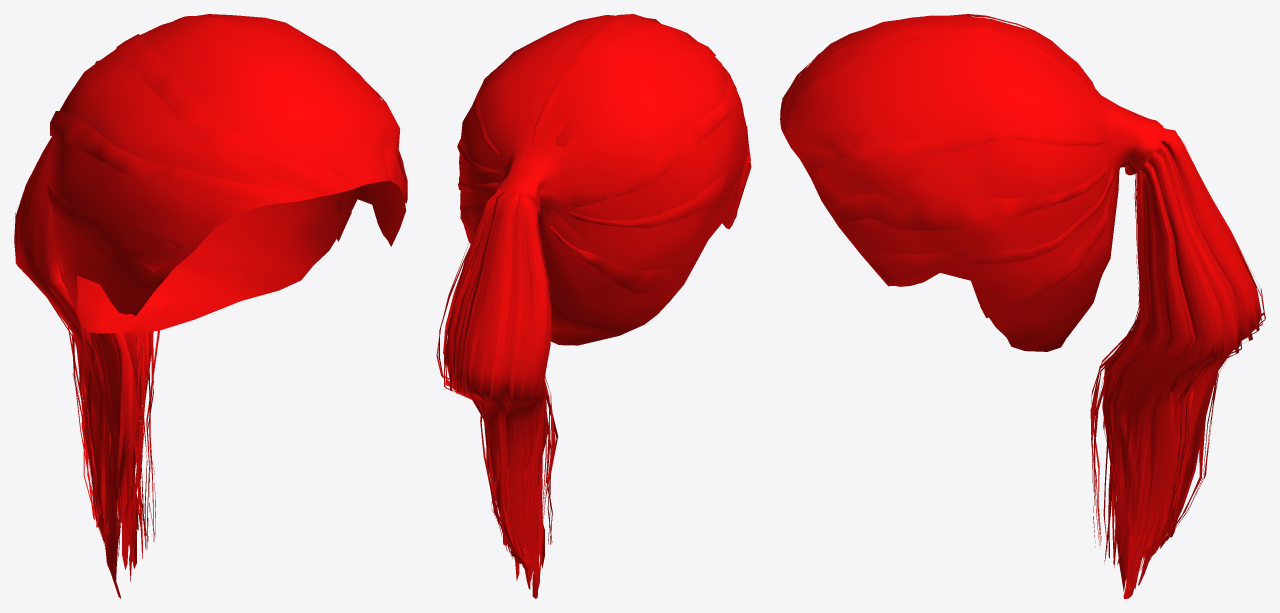
The model's file is ponytail01_F.glb.
3 renders of one model, left to right at view 1: azimuth 30°, elevation 25°; view 2: azimuth 150°, elevation 25°; view 3: azimuth 270°, elevation 25°, orthographic. The views are drawn at different scales.
Size of the model in its own units: 0.1729 by 0.3488 by 0.2653.
1 material, 1 textured.
